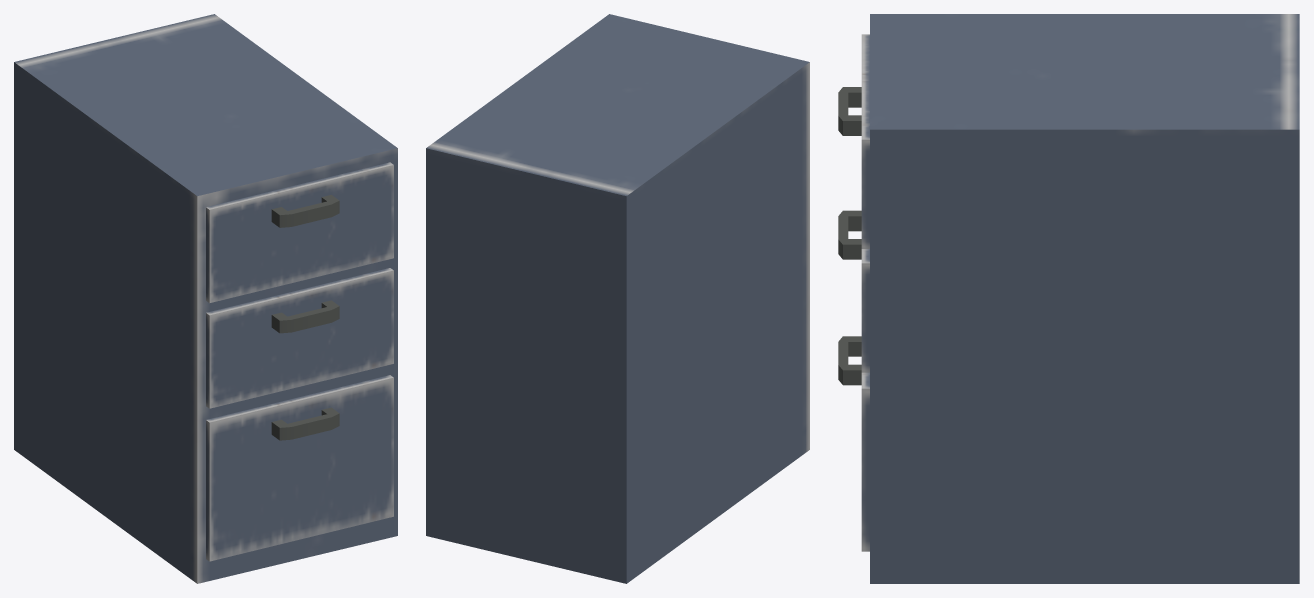
The model's file is Table_Drawer.000.fbx.
The picture shows the model from 3 angles, left to right: view 1: azimuth 30°, elevation 25°; view 2: azimuth 150°, elevation 25°; view 3: azimuth 270°, elevation 25°; orthographic projection. The views are drawn at different scales.
Parts seen in each view (by area): view 1: Cube.001, Drawer_Cube.003, Drawer_Cube.002, Drawer_Cube.001; view 2: Cube.001; view 3: Cube.001, Drawer_Cube.001, Drawer_Cube.003, Drawer_Cube.002.
Boxes of the visible parts, box(x1,y1,x2,y2) form: Cube.001: box(14, 14, 397, 583); Drawer_Cube.003: box(206, 375, 393, 561); Drawer_Cube.002: box(206, 268, 393, 408); Drawer_Cube.001: box(206, 162, 393, 303); Cube.001: box(426, 14, 809, 583); Cube.001: box(870, 14, 1299, 583); Drawer_Cube.001: box(838, 34, 869, 248); Drawer_Cube.003: box(838, 336, 869, 551); Drawer_Cube.002: box(838, 210, 869, 372).
Bounding box in the file's own units: 40.62 × 75.21 × 69.09.
1 material, 1 textured.
